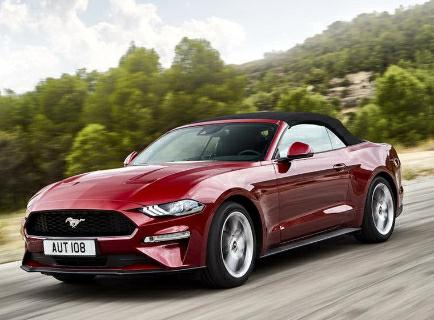福特-Mustang: (16, 110, 413, 291)
